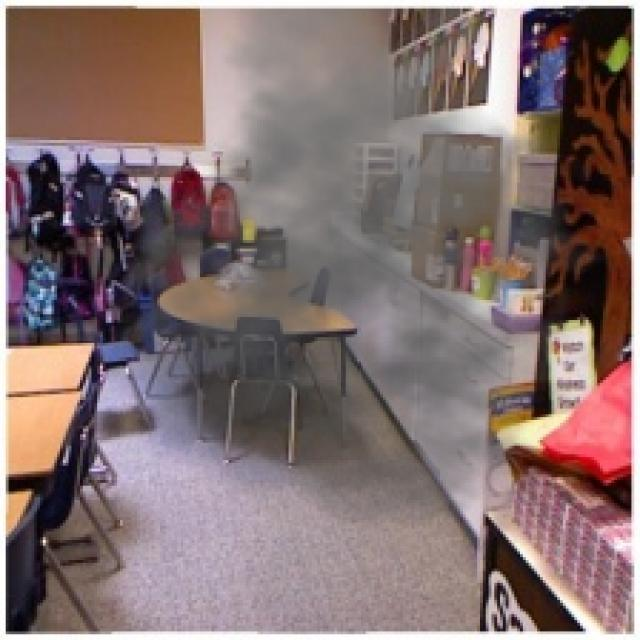Smoke: (103, 9, 632, 528)
